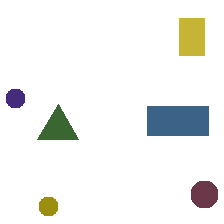circle: (191, 181, 217, 207), (6, 89, 24, 107), (39, 197, 57, 215)
rectangle: (147, 106, 208, 135), (179, 18, 204, 55)
triangle: (37, 104, 78, 139)
